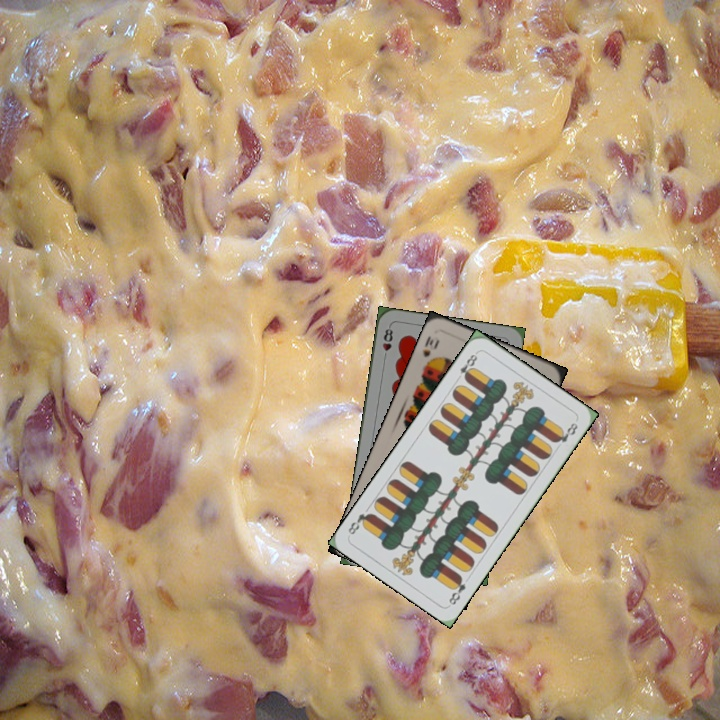E8: (452, 348, 480, 384), (445, 572, 468, 608)
H8: (378, 323, 395, 363)
S10: (418, 332, 442, 369)
